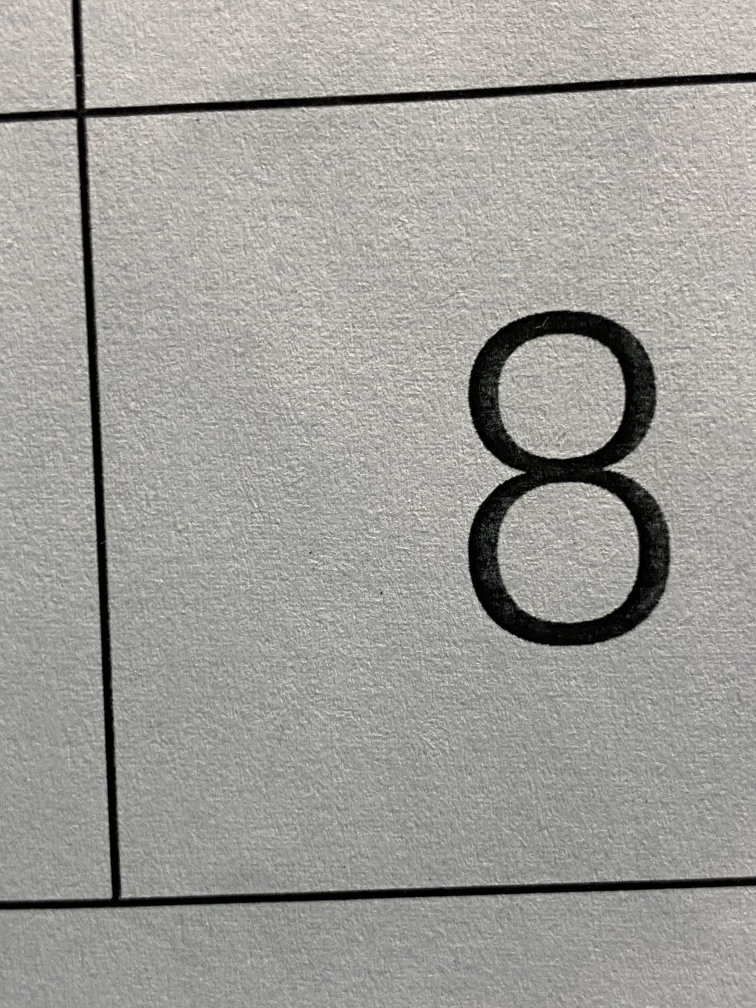eight: (363, 236, 748, 730)
